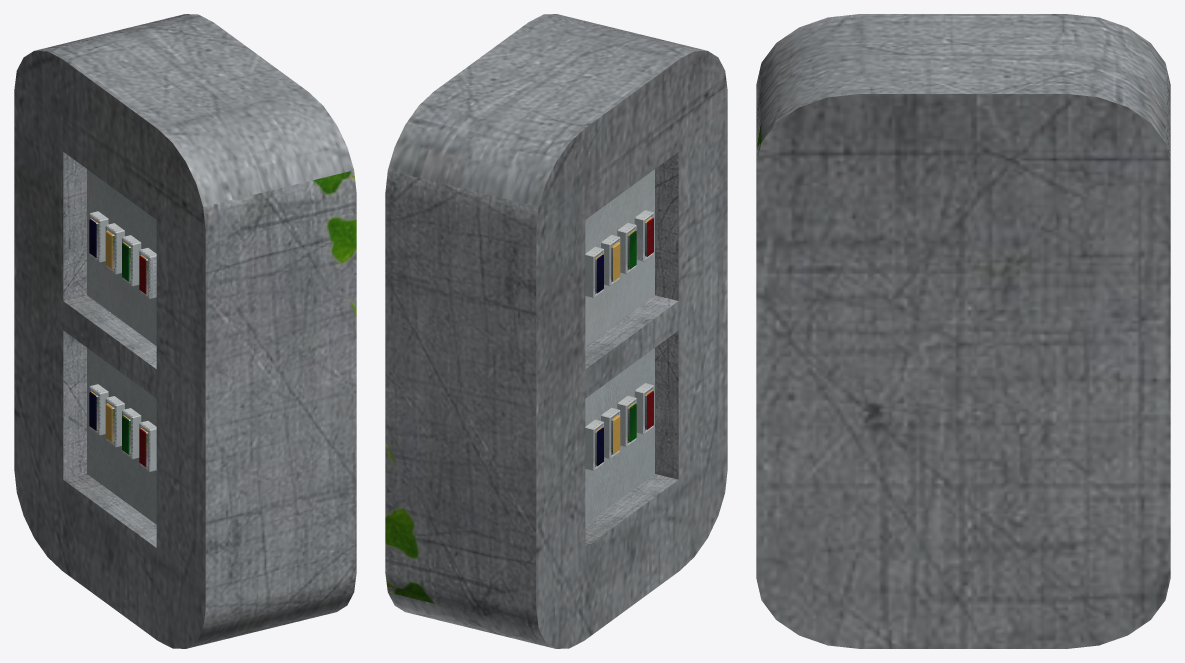
Rendered from cbox.fbx.
The picture shows the model from 3 angles, left to right: view 1: azimuth 30°, elevation 25°; view 2: azimuth 150°, elevation 25°; view 3: azimuth 270°, elevation 25°; orthographic projection. The views are drawn at different scales.
Visible parts, largest first — view 1: pCube63, pCube70, pCube66, pCube71, pCube67, pCube65, pCube69, pCube68, pCube64; view 2: pCube63, pCube64, pCube68, pCube67, pCube71, pCube66, pCube70, pCube65, pCube69; view 3: pCube63.
Part boxes in pixels (box(x1,y1,x2,y2)): pCube63: box(14, 14, 356, 648); pCube70: box(122, 408, 141, 459); pCube66: box(122, 235, 141, 286); pCube71: box(139, 420, 156, 471); pCube67: box(139, 248, 156, 298); pCube65: box(105, 223, 124, 274); pCube69: box(105, 396, 124, 447); pCube68: box(89, 384, 108, 435); pCube64: box(89, 211, 108, 262); pCube63: box(385, 14, 727, 648); pCube64: box(585, 246, 603, 297); pCube68: box(585, 419, 603, 470); pCube67: box(634, 210, 653, 261); pCube71: box(634, 383, 653, 434); pCube66: box(617, 223, 636, 274); pCube70: box(617, 396, 636, 446); pCube65: box(601, 235, 620, 286); pCube69: box(601, 407, 620, 459); pCube63: box(756, 14, 1170, 648).
Bounding box in the file's own units: 23.78 × 77.04 × 52.11.
